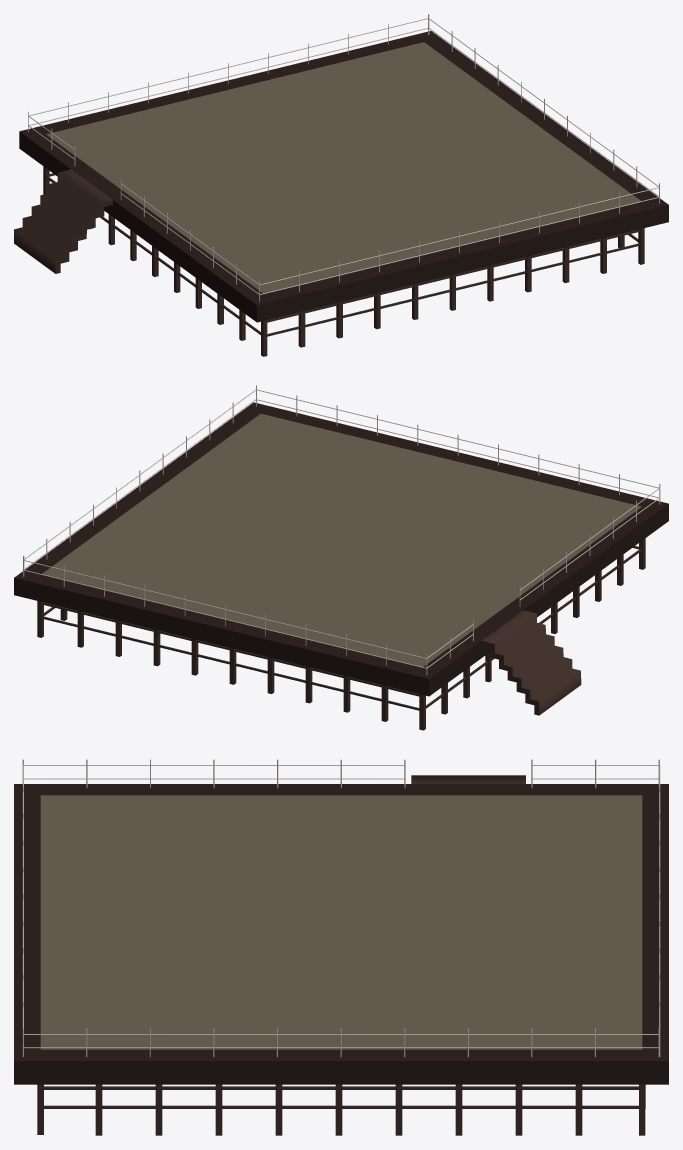
The model's file is 02 Launching pad_1.FBX.glb.
3 renders of one model, top to bottom at view 1: azimuth 30°, elevation 25°; view 2: azimuth 150°, elevation 25°; view 3: azimuth 270°, elevation 25°, orthographic. The views are drawn at different scales.
Parts seen in each view (by area): view 1: Launching pad_1.2; view 2: Launching pad_1.2; view 3: Launching pad_1.2.
Boxes of the visible parts, x1=… form: Launching pad_1.2: x1=14, y1=14, x2=668, y2=356; Launching pad_1.2: x1=14, y1=385, x2=668, y2=730; Launching pad_1.2: x1=14, y1=759, x2=668, y2=1135.
Size of the model in its own units: 5694 by 951 by 5000.
